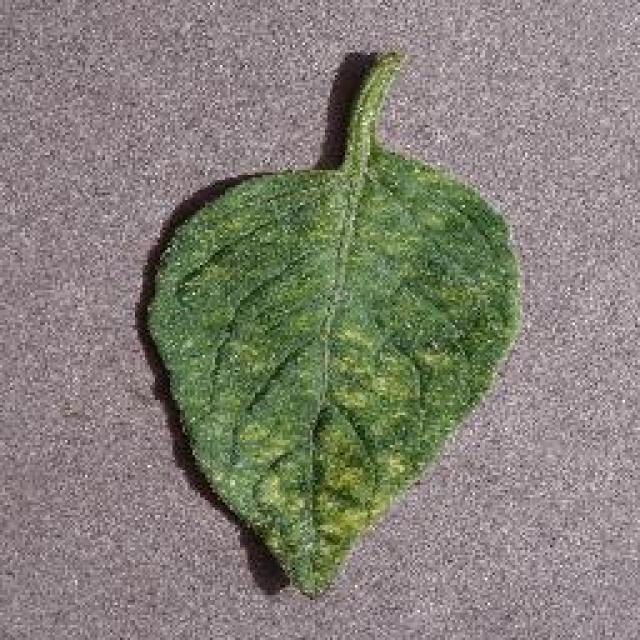Tomato___Spider_mites Two-spotted_spider_mite: (145, 52, 518, 592)
